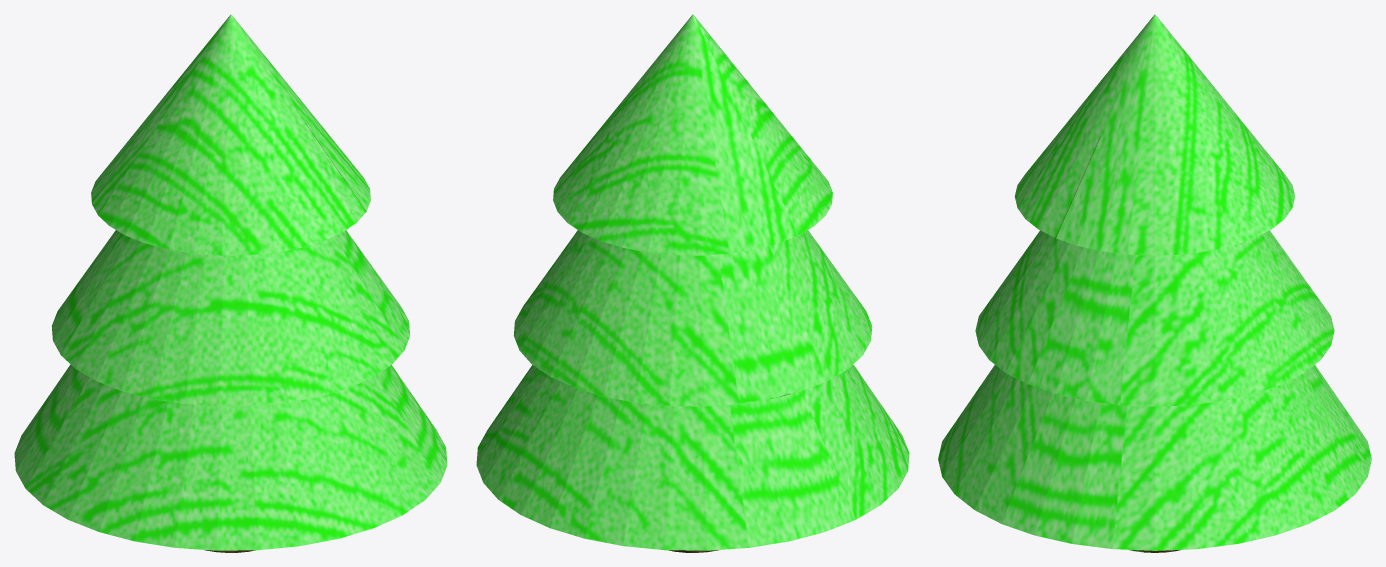
Rendered from Tree.obj.
The picture shows the model from 3 angles, left to right: view 1: azimuth 30°, elevation 25°; view 2: azimuth 150°, elevation 25°; view 3: azimuth 270°, elevation 25°; orthographic projection.
Visible parts, largest first — view 1: Tree; view 2: Tree; view 3: Tree.
Boxes of the visible parts, bbox=[...] form: Tree: bbox=[14, 14, 447, 552]; Tree: bbox=[476, 14, 909, 552]; Tree: bbox=[938, 14, 1371, 552].
Size of the model in its own units: 2.04 by 2.67 by 2.04.
1 material, 1 textured.
